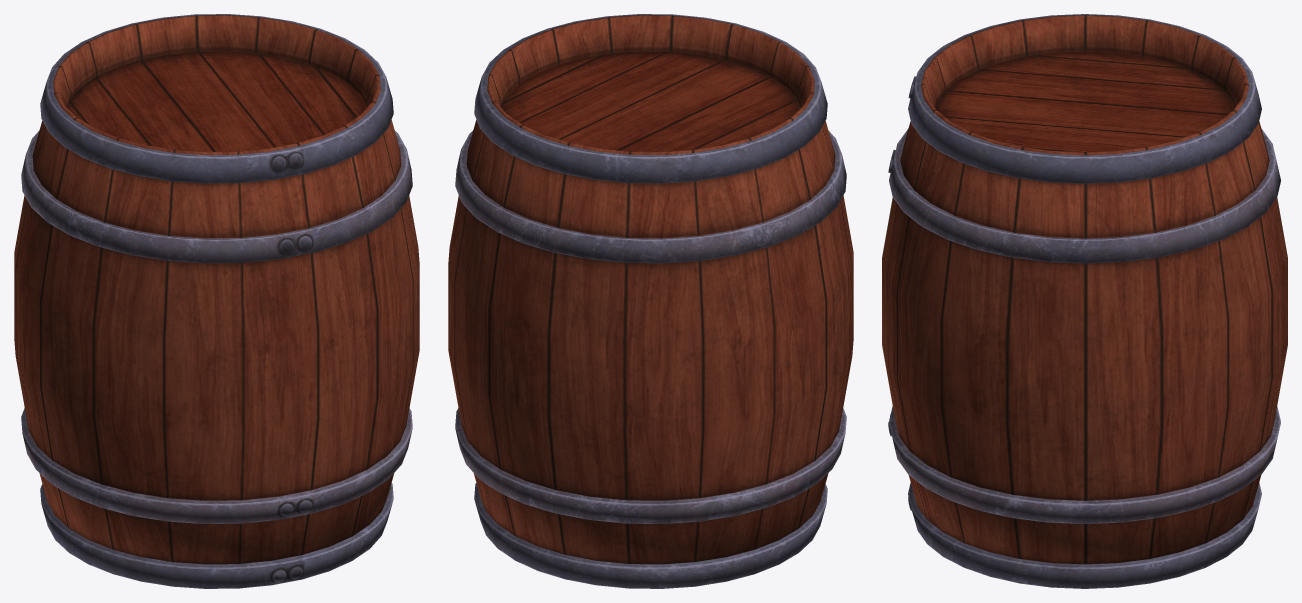
File: wooden_barrel.glb
The picture shows the model from 3 angles, left to right: view 1: azimuth 30°, elevation 25°; view 2: azimuth 150°, elevation 25°; view 3: azimuth 270°, elevation 25°; orthographic projection.
Parts seen in each view (by area): view 1: body_low; view 2: body_low; view 3: body_low.
Part boxes in pixels (x1=…): body_low: x1=14, y1=14, x2=419, y2=588; body_low: x1=448, y1=14, x2=853, y2=588; body_low: x1=882, y1=14, x2=1287, y2=588.
Size of the model in its own units: 65.25 by 77 by 65.25.
1 material, 1 textured.
